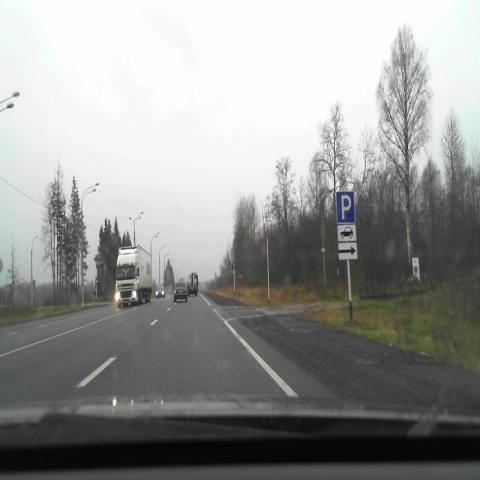6_4: (336, 191, 355, 224)
8_3_1: (338, 243, 357, 260)
8_4_3: (338, 226, 356, 242)
